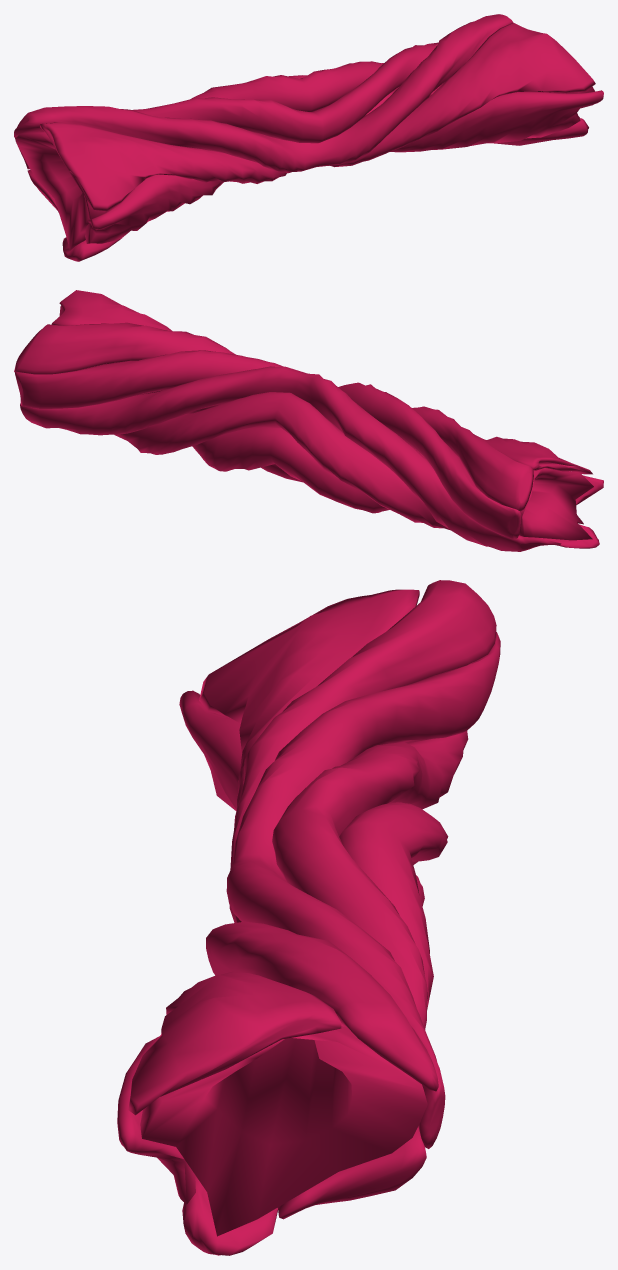
Rendered from Fallen_Log_1.fbx.
The picture shows the model from 3 angles, top to bottom: view 1: azimuth 30°, elevation 25°; view 2: azimuth 150°, elevation 25°; view 3: azimuth 270°, elevation 25°; orthographic projection. The views are drawn at different scales.
Parts seen in each view (by area): view 1: Fallen_Tree_1; view 2: Fallen_Tree_1; view 3: Fallen_Tree_1.
Part boxes in pixels (box(x1,y1,x2,y2)): Fallen_Tree_1: box(14, 14, 603, 261); Fallen_Tree_1: box(14, 290, 603, 551); Fallen_Tree_1: box(117, 580, 500, 1255).
Size of the model in its own units: 3640 by 781 by 1175.
